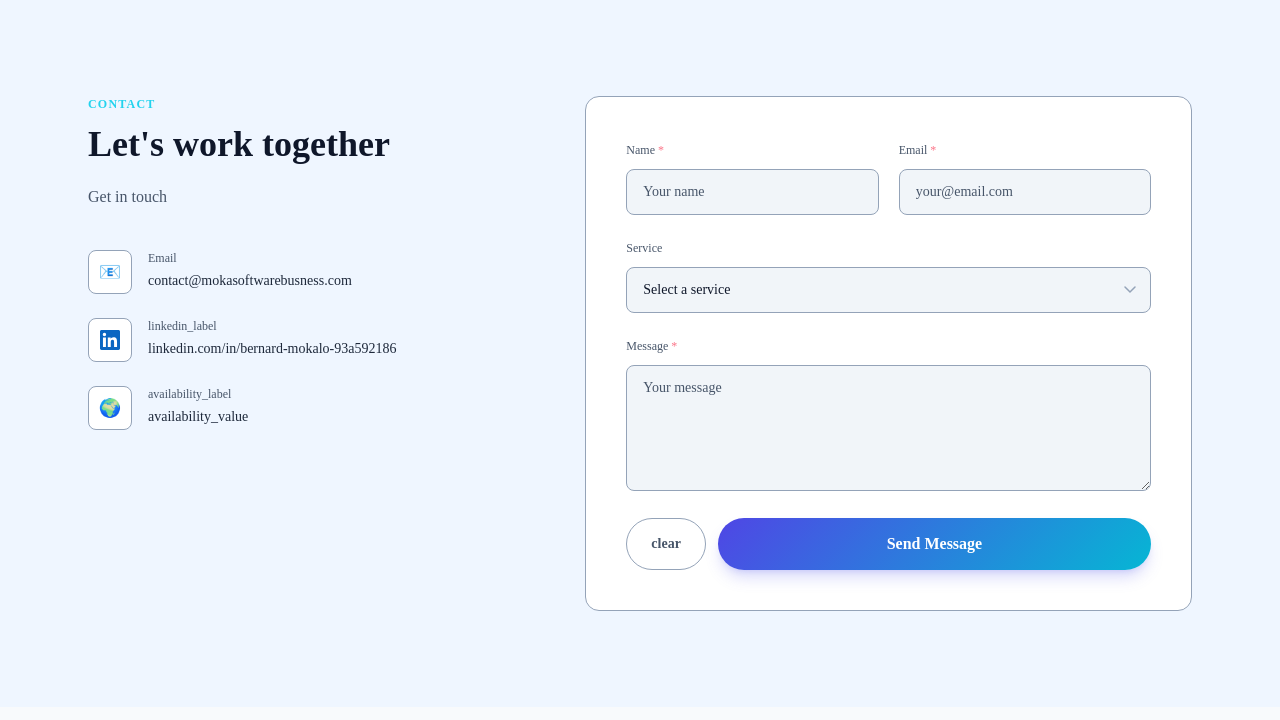
Test: Contact › shows error when all fields are empty
Click the button "Send Message" at [934, 544], box [718, 518, 1151, 570]
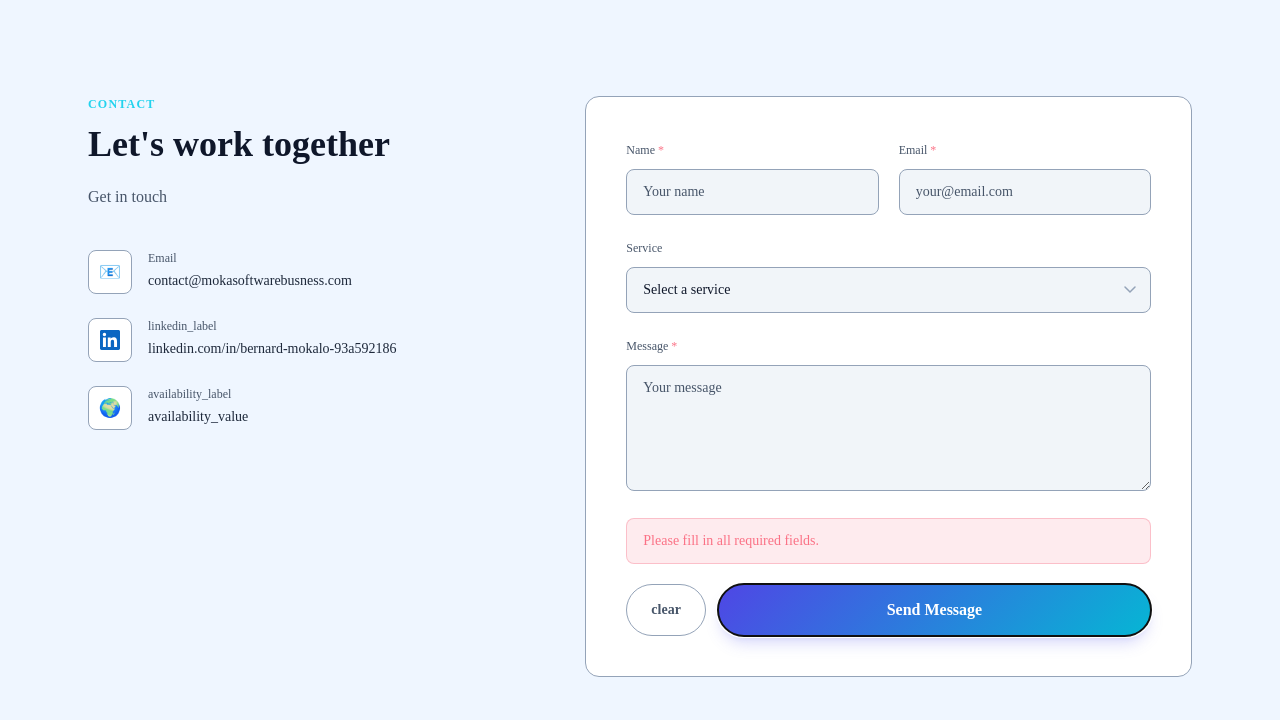
Expected: the text "Please fill in all required fields." is shown, [626, 518, 1151, 564]
